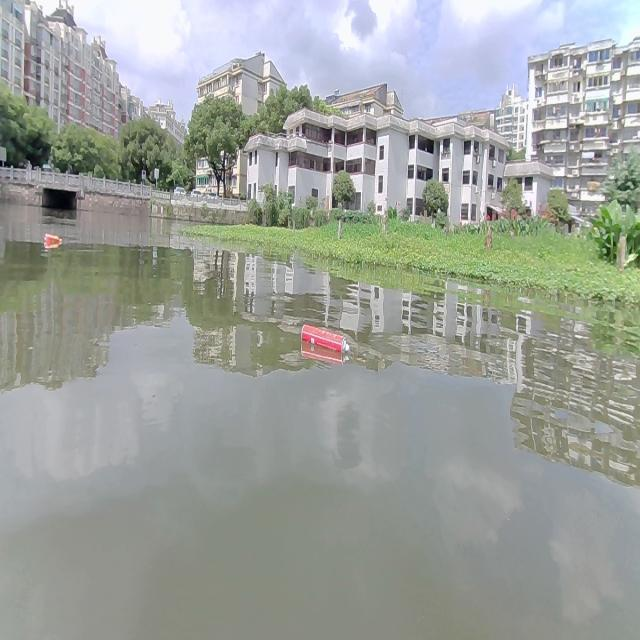bottle: (300, 323, 350, 351), (43, 232, 61, 243)
